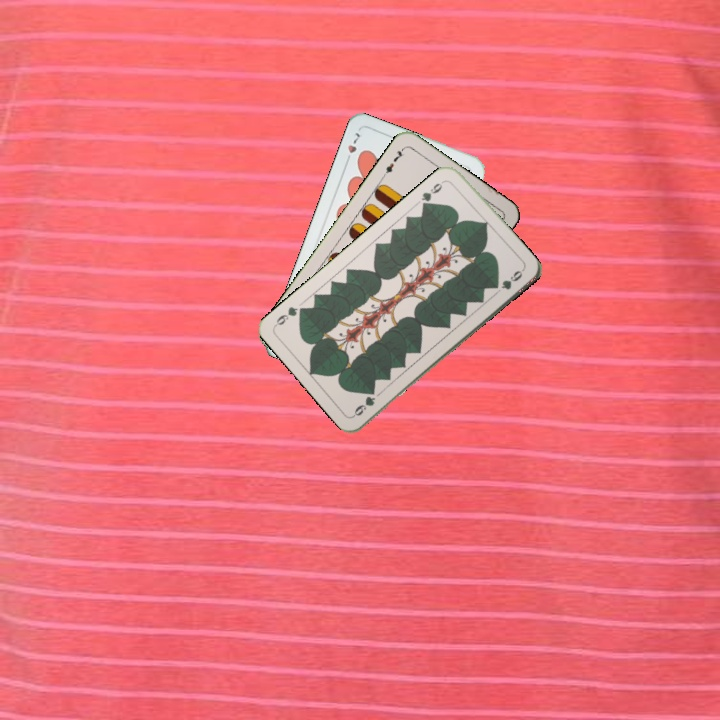E7: (379, 144, 407, 179)
G9: (417, 176, 449, 210), (349, 392, 378, 419)
H7: (342, 128, 363, 166)
